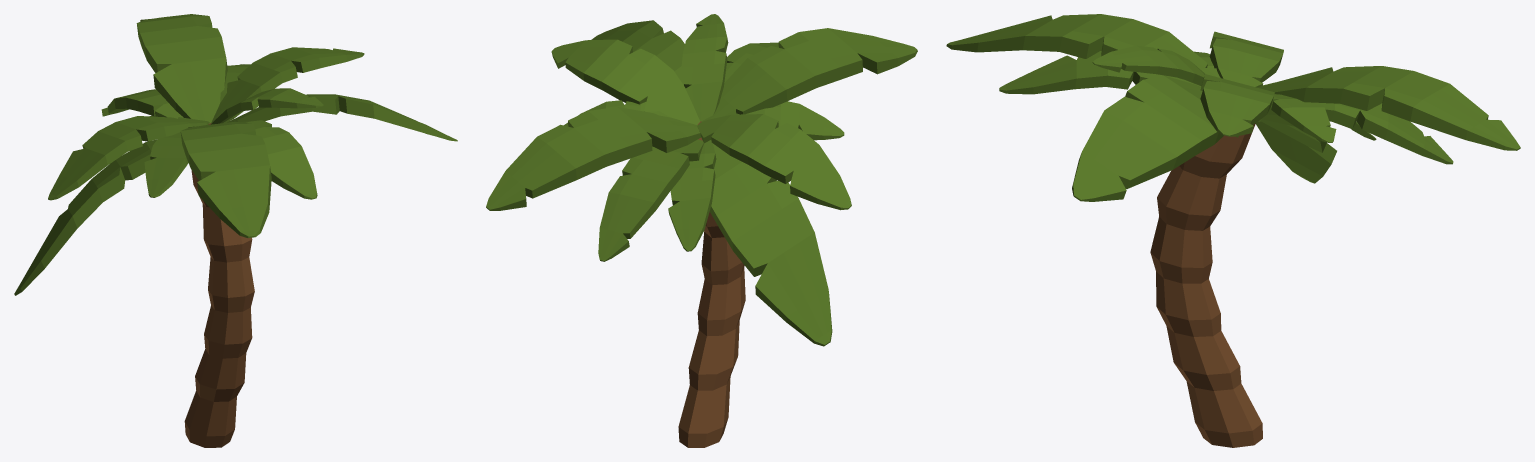
The model's file is agac2.fbx.
3 renders of one model, left to right at view 1: azimuth 30°, elevation 25°; view 2: azimuth 150°, elevation 25°; view 3: azimuth 270°, elevation 25°, orthographic. The views are drawn at different scales.
Visible parts, largest first — view 1: agac2; view 2: agac2; view 3: agac2.
Boxes of the visible parts, x1=… form: agac2: x1=14, y1=14, x2=457, y2=447; agac2: x1=486, y1=14, x2=917, y2=447; agac2: x1=946, y1=14, x2=1520, y2=447.
Bounding box in the file's own units: 355 × 365 × 470.
